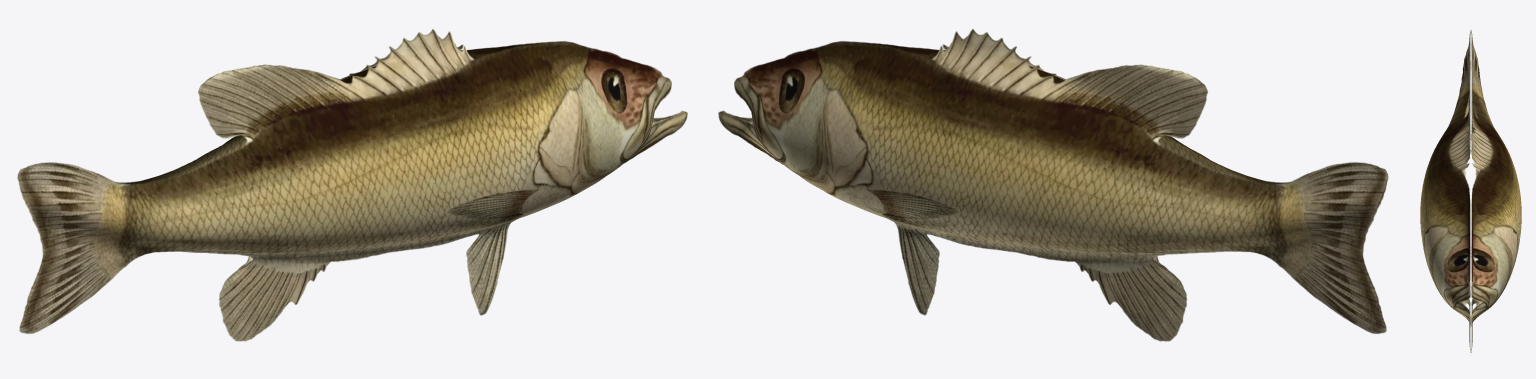
The model's file is black-bass.glb.
3 views of the same model, side by side, from view 1: azimuth 30°, elevation 25°; view 2: azimuth 150°, elevation 25°; view 3: azimuth 270°, elevation 25° (orthographic). The views are drawn at different scales.
Parts seen in each view (by area): view 1: black-bass; view 2: black-bass; view 3: black-bass.
Boxes of the visible parts, x1,y1,x2,y2 form: black-bass: (17, 29, 687, 341); black-bass: (718, 29, 1388, 341); black-bass: (1420, 29, 1521, 352).
Bounding box in the file's own units: 1 × 0.4409 × 0.1935.
1 material, 1 textured.
